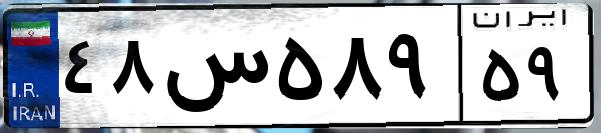4: (57, 26, 110, 100)
5: (270, 28, 330, 110), (475, 38, 525, 113)
8: (330, 28, 385, 110), (110, 28, 158, 98)
9: (385, 28, 445, 110), (525, 38, 570, 115)
س: (158, 20, 270, 120)
